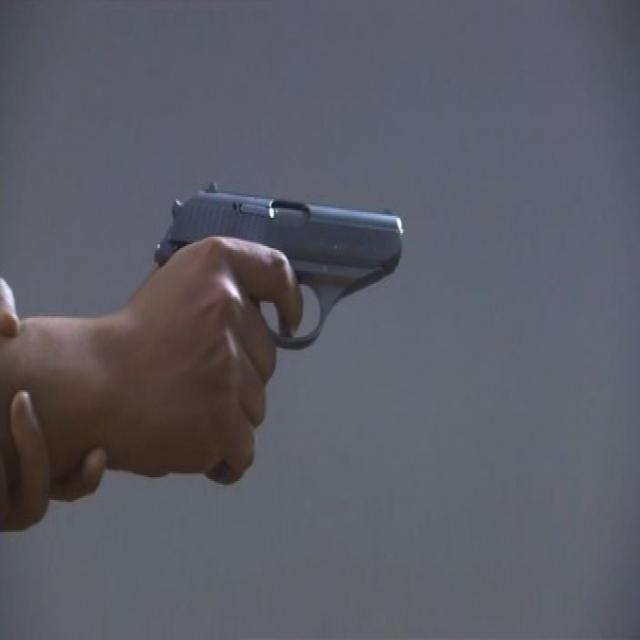weapons: (146, 150, 424, 469)
